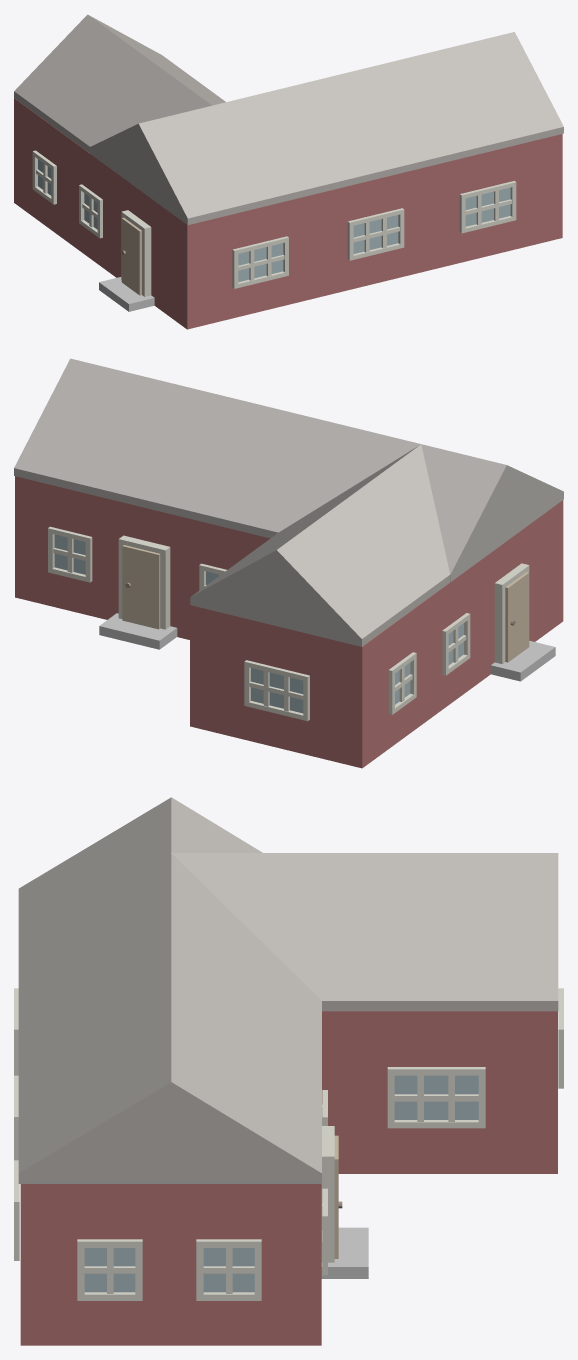
File: house05.fbx
3 renders of one model, top to bottom at view 1: azimuth 30°, elevation 25°; view 2: azimuth 150°, elevation 25°; view 3: azimuth 270°, elevation 25°, orthographic. The views are drawn at different scales.
Parts seen in each view (by area): view 1: house05, roof09, roof010, door9 (×3), pPlane2 (×3), door17 (×3), doorCentre, door5 (×2), step, doorFrame; view 2: house05, roof09, roof010, doorCentre (×2), doorFrame (×2), door5 (×3), step (×2), door9, pPlane2, pPlane1, door17; view 3: roof09, house05, roof010, door5 (×2), pPlane1 (×2), pPlane2, door9, step, doorFrame, door14 (×2), door17.
Part boxes in pixels (bbox=[...]): house05: bbox=[14, 98, 562, 329]; roof09: bbox=[90, 32, 563, 224]; roof010: bbox=[14, 14, 225, 152]; door9 (×3): bbox=[232, 181, 516, 288]; pPlane2 (×3): bbox=[238, 187, 510, 282]; door17 (×3): bbox=[238, 190, 511, 280]; doorCentre: bbox=[121, 217, 141, 295]; door5 (×2): bbox=[32, 150, 102, 238]; step: bbox=[99, 277, 154, 311]; doorFrame: bbox=[121, 210, 151, 296]; house05: bbox=[15, 476, 563, 768]; roof09: bbox=[14, 358, 563, 582]; roof010: bbox=[190, 444, 450, 646]; doorCentre (×2): bbox=[122, 545, 529, 662]; doorFrame (×2): bbox=[118, 535, 529, 664]; door5 (×3): bbox=[48, 526, 470, 714]; step (×2): bbox=[99, 613, 555, 681]; door9: bbox=[244, 660, 309, 721]; pPlane2: bbox=[251, 668, 303, 713]; pPlane1: bbox=[54, 534, 85, 574]; door17: bbox=[249, 671, 303, 711]; roof09: bbox=[18, 797, 321, 1183]; house05: bbox=[20, 1011, 557, 1345]; roof010: bbox=[170, 853, 558, 1011]; door5 (×2): bbox=[77, 1239, 261, 1300]; pPlane1 (×2): bbox=[84, 1248, 254, 1292]; pPlane2: bbox=[394, 1075, 478, 1119]; door9: bbox=[387, 1067, 485, 1128]; step: bbox=[321, 1227, 368, 1278]; doorFrame: bbox=[321, 1126, 334, 1262]; door14 (×2): bbox=[84, 1248, 254, 1293]; door17: bbox=[394, 1075, 478, 1121].
Size of the model in its own units: 8.55 by 3.44 by 6.49.
